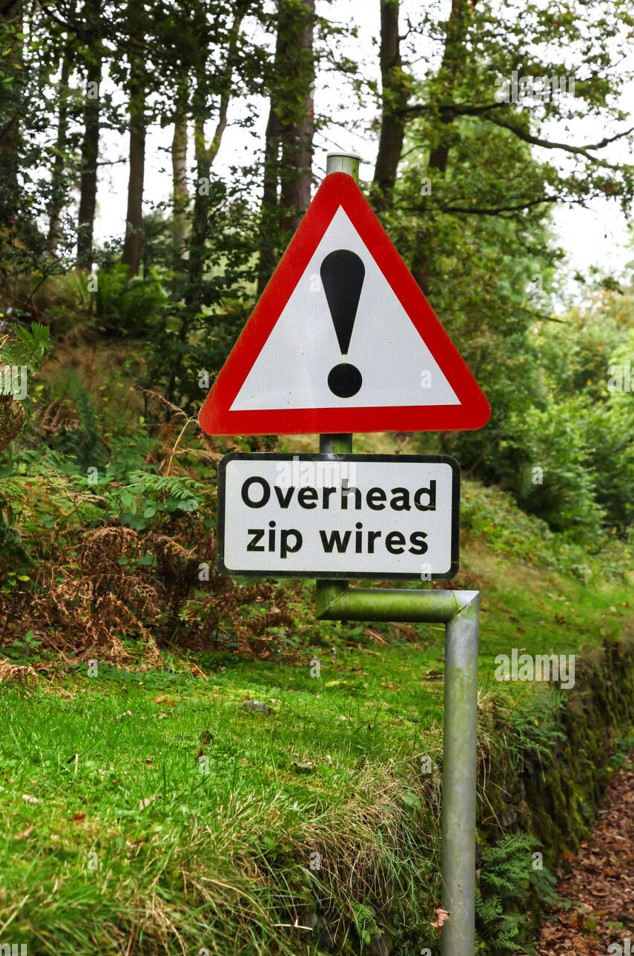Danger: (198, 171, 494, 439)
